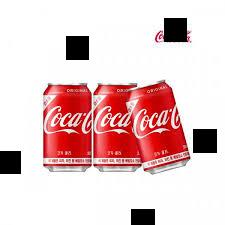cocacola: (125, 83, 192, 174), (40, 81, 93, 174), (93, 80, 132, 172)
